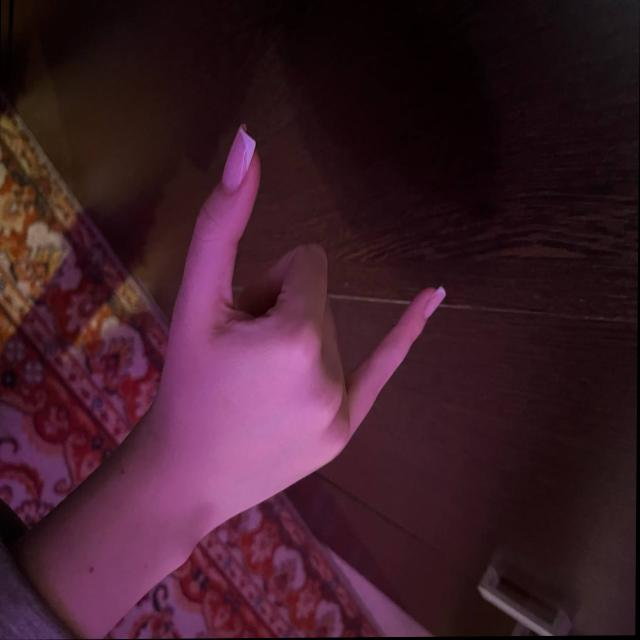u: (173, 115, 456, 588)
